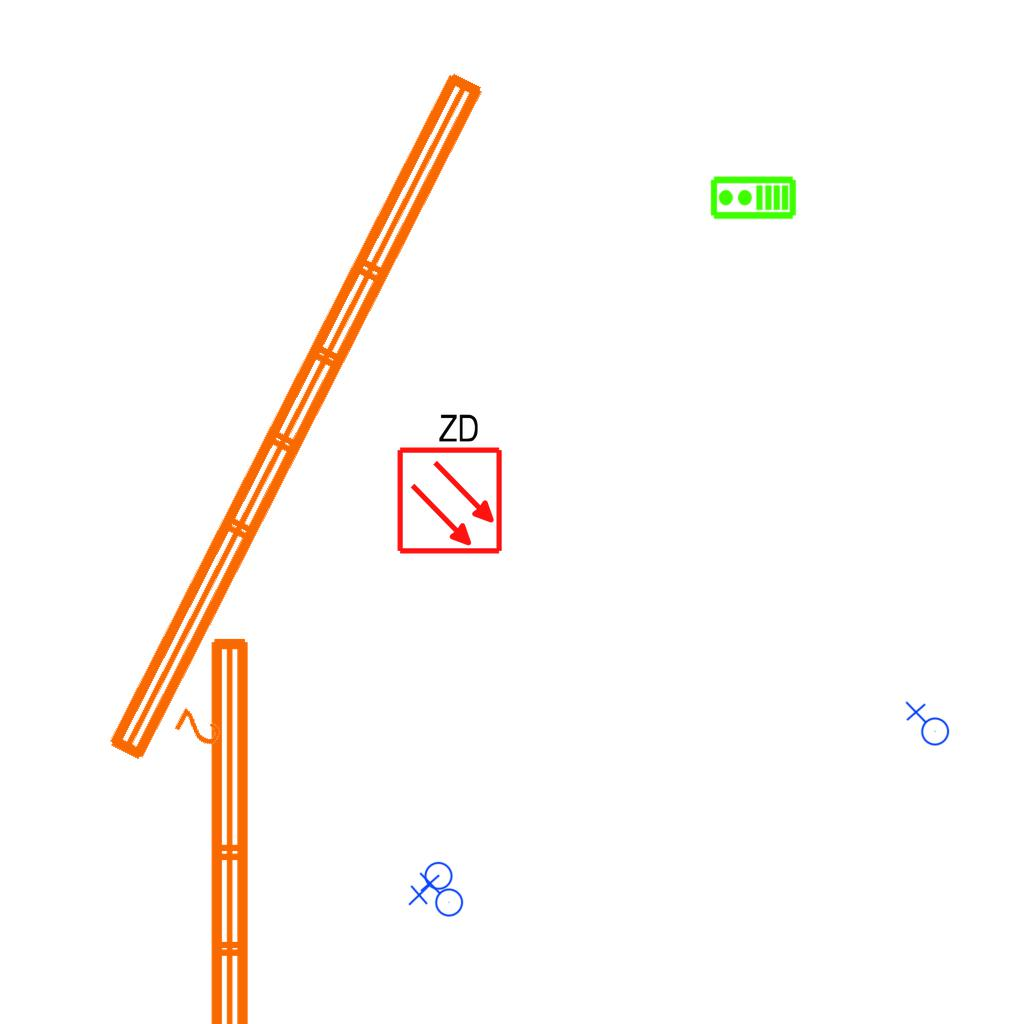Ambulanz_Pendelleuchte_LED: (93, 56, 545, 798), (199, 628, 311, 1024)
Elektroanschluss_allgemein_230V_Geraeteanschlussdose_230V: (408, 861, 457, 908), (903, 701, 950, 750), (417, 872, 464, 921)
Gegensprechanlage_mit_Video: (709, 175, 797, 222)
ZD_Melder_in_Zwischendecke_mit_Revisionsoeffnung_mind_40_x_40_cm: (391, 407, 505, 556)
